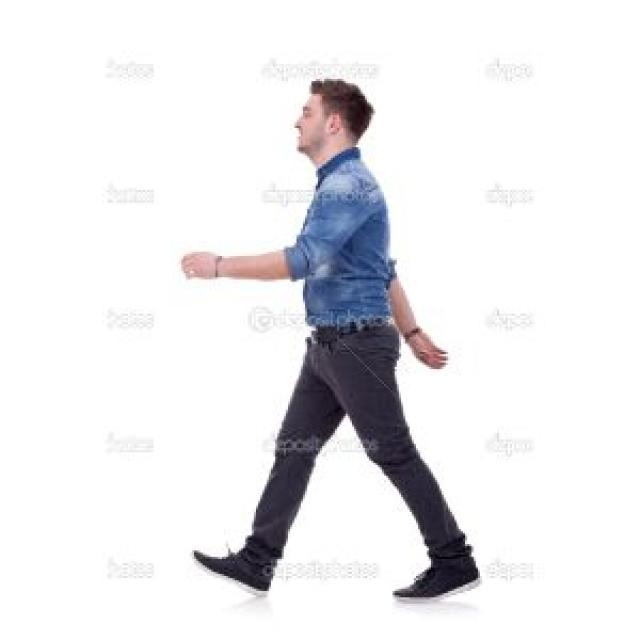nonfall: (197, 76, 498, 596)
